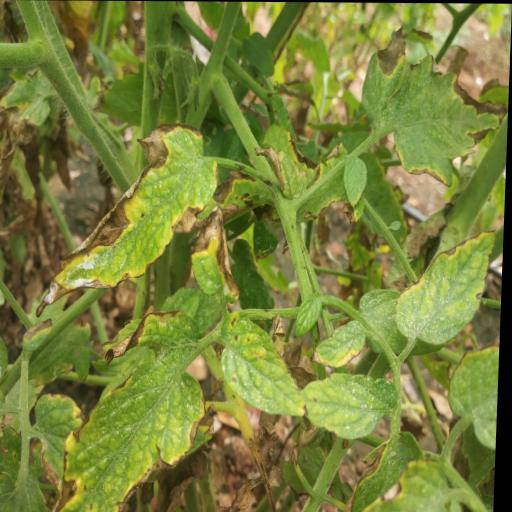Early Blight: (37, 120, 223, 318), (56, 309, 212, 512), (358, 24, 511, 187), (394, 226, 497, 344), (219, 307, 317, 420), (188, 203, 247, 305)
